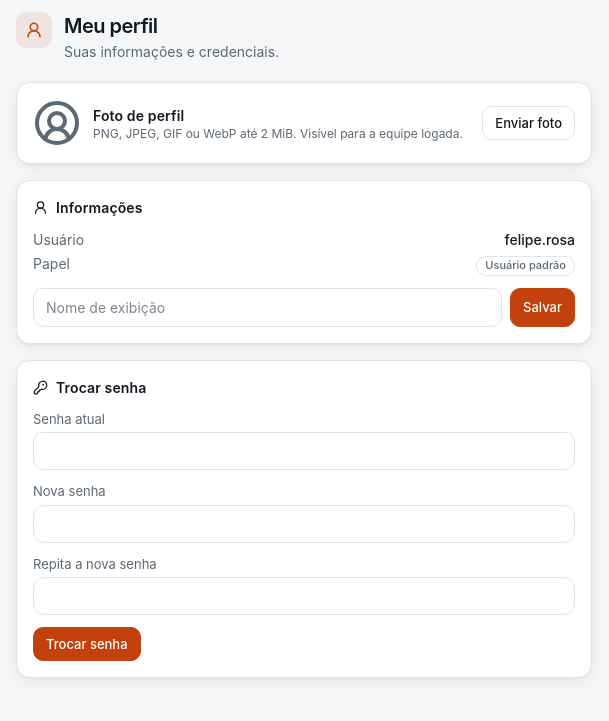
Scenario: ProfilePage › exibe dados imutáveis e permite trocar o nome
This screenshot has width=609, height=721.
Check: the text "felipe.rosa" is shown, box top-left (505, 230), bottom-right (575, 250)
Check: the text "Usuário padrão" is shown, box top-left (476, 256), bottom-right (575, 276)
Type "Felipe R." into the field labelled "Nome de exibição" at (268, 307), box top-left (33, 288), bottom-right (502, 327)
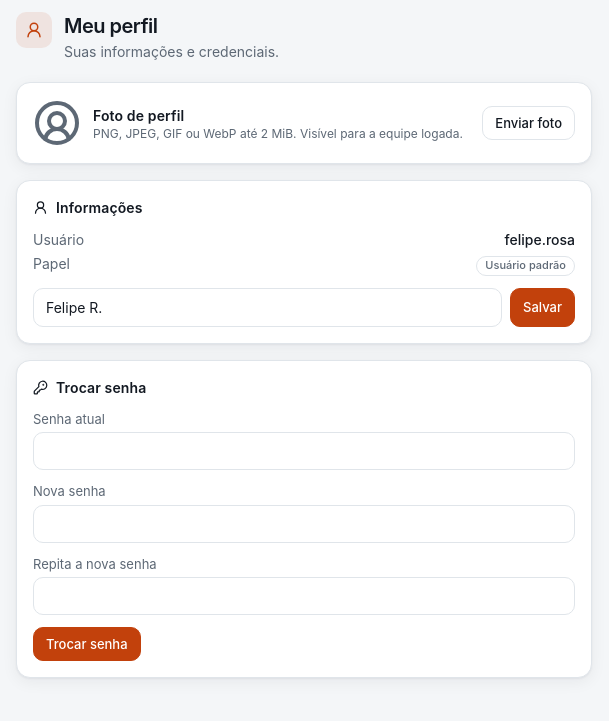
Click the button "Salvar" at (542, 307), box top-left (510, 288), bottom-right (575, 327)
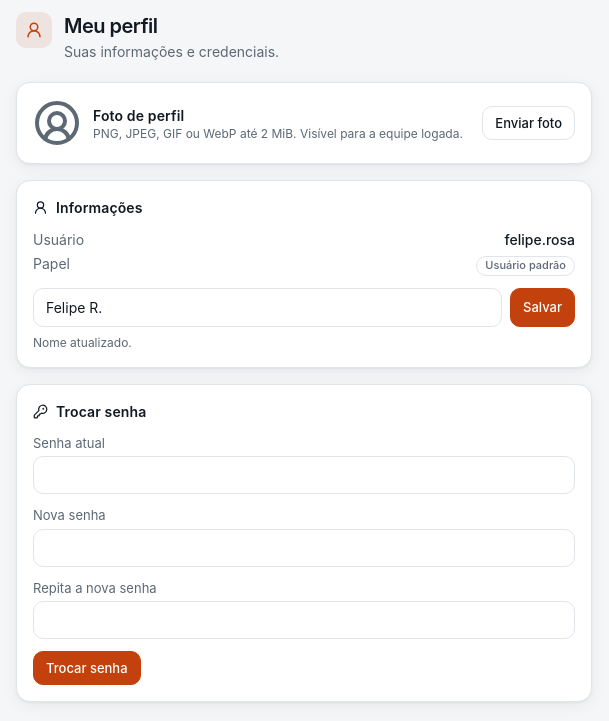
Check: the text "Nome atualizado." is shown, box top-left (33, 335), bottom-right (132, 350)
